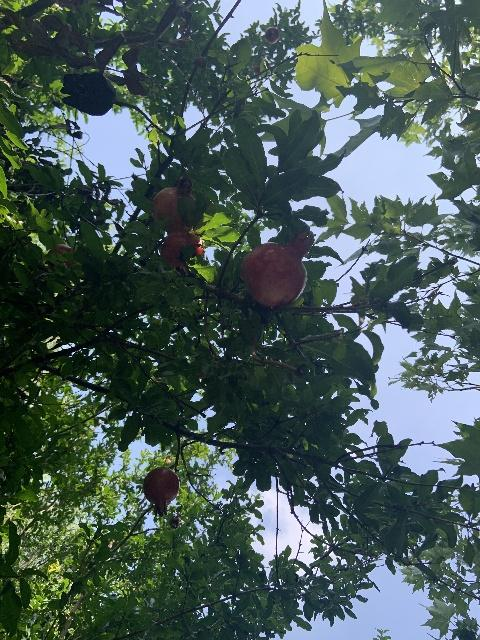ripe: (240, 229, 314, 307), (152, 177, 195, 231), (143, 466, 179, 516), (160, 230, 205, 267), (47, 243, 75, 268), (265, 26, 279, 43)
